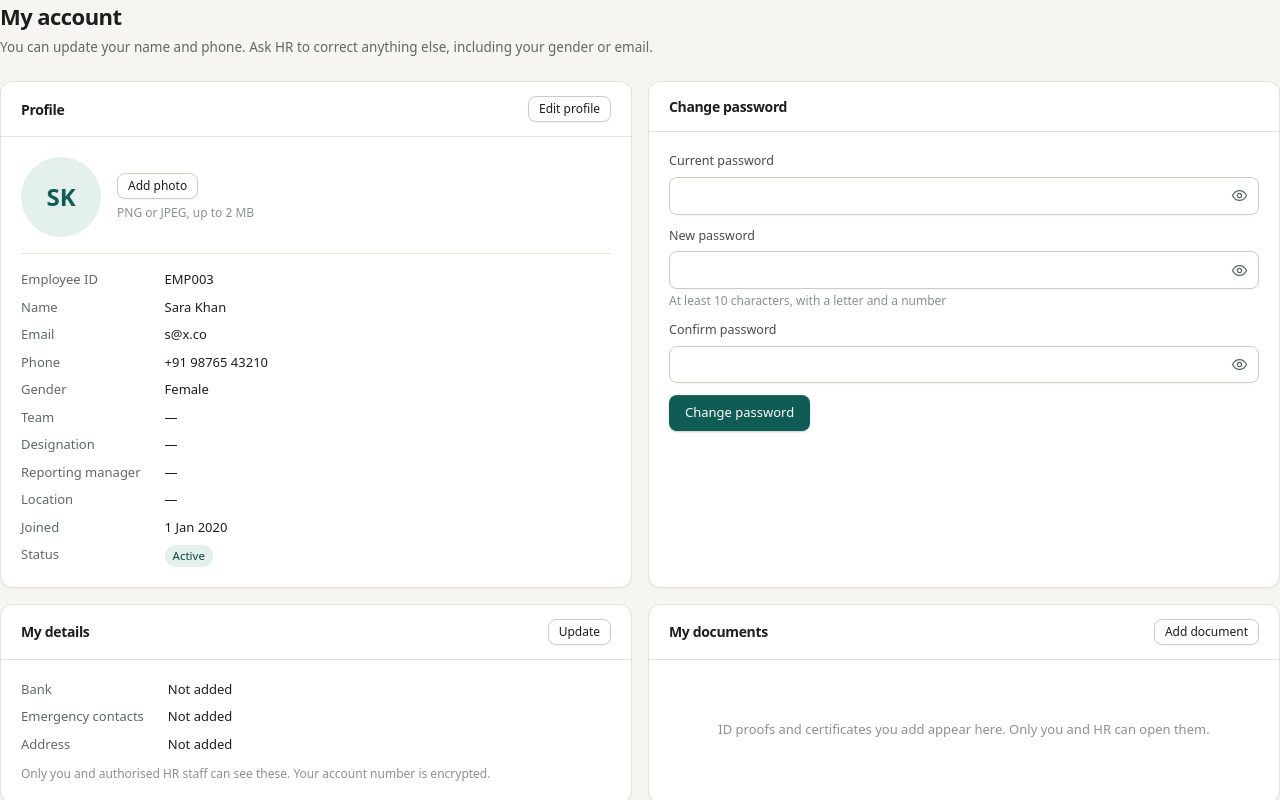
Test: my account › updates only the name and phone, then shows the saved details
Click the button "Edit profile" at (570, 109), box [528,96,611,122]
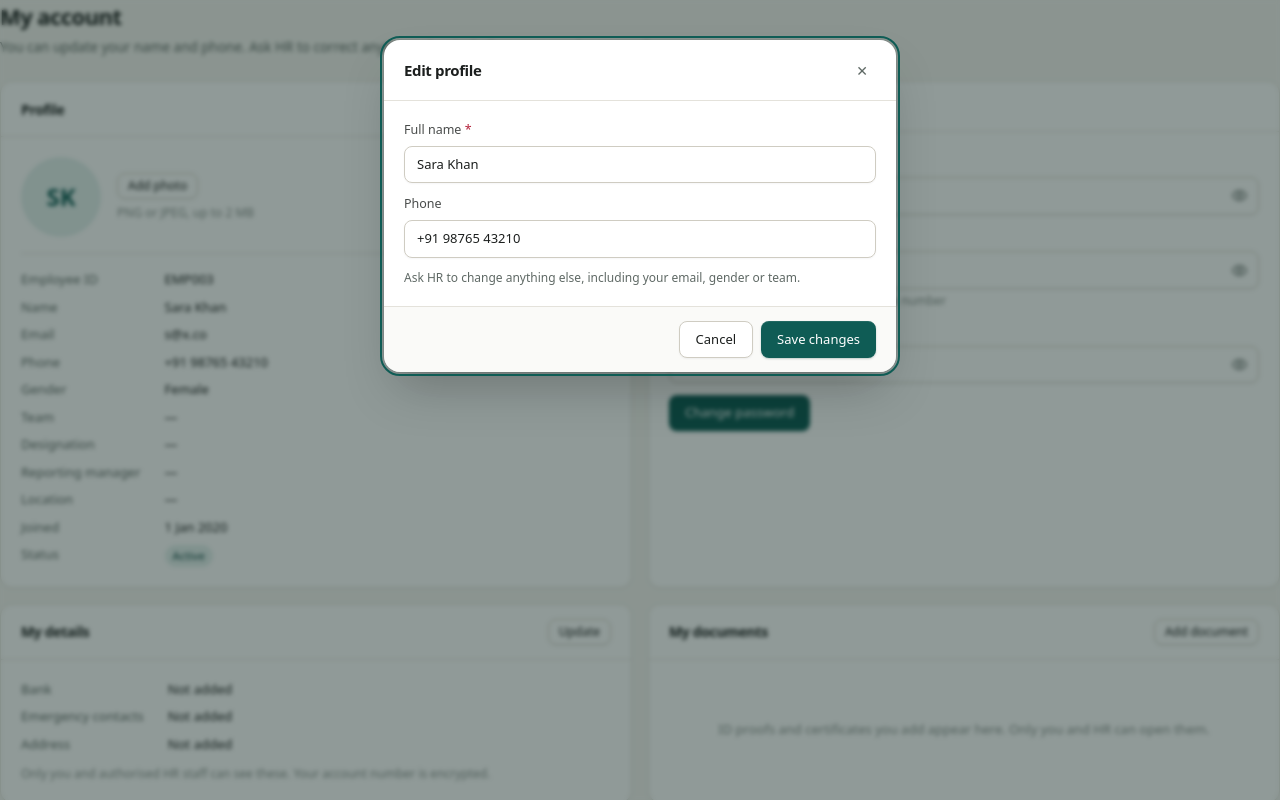
Replace the text in the field labelled "Full name *" with "Sara K" at (640, 165), box [404,146,876,183]
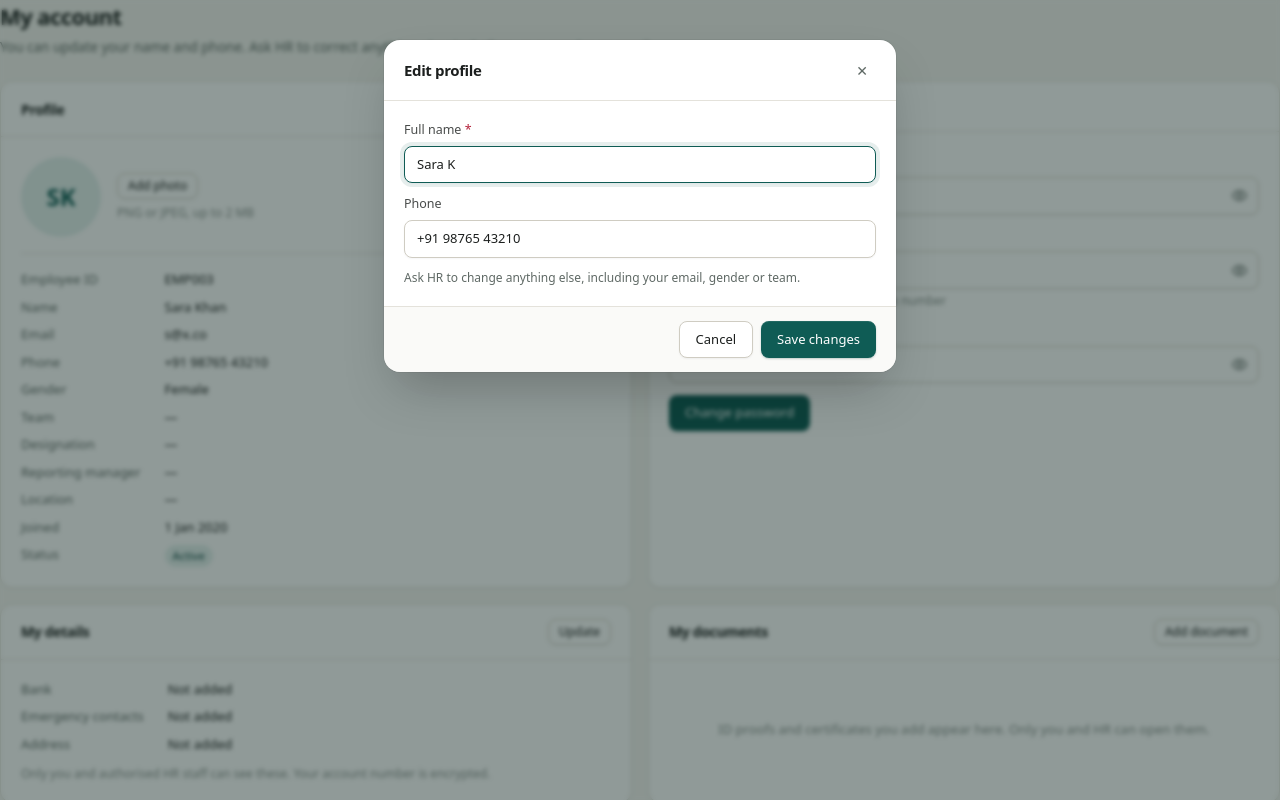
Click the button "Save changes" at (819, 339), box [761,320,876,358]
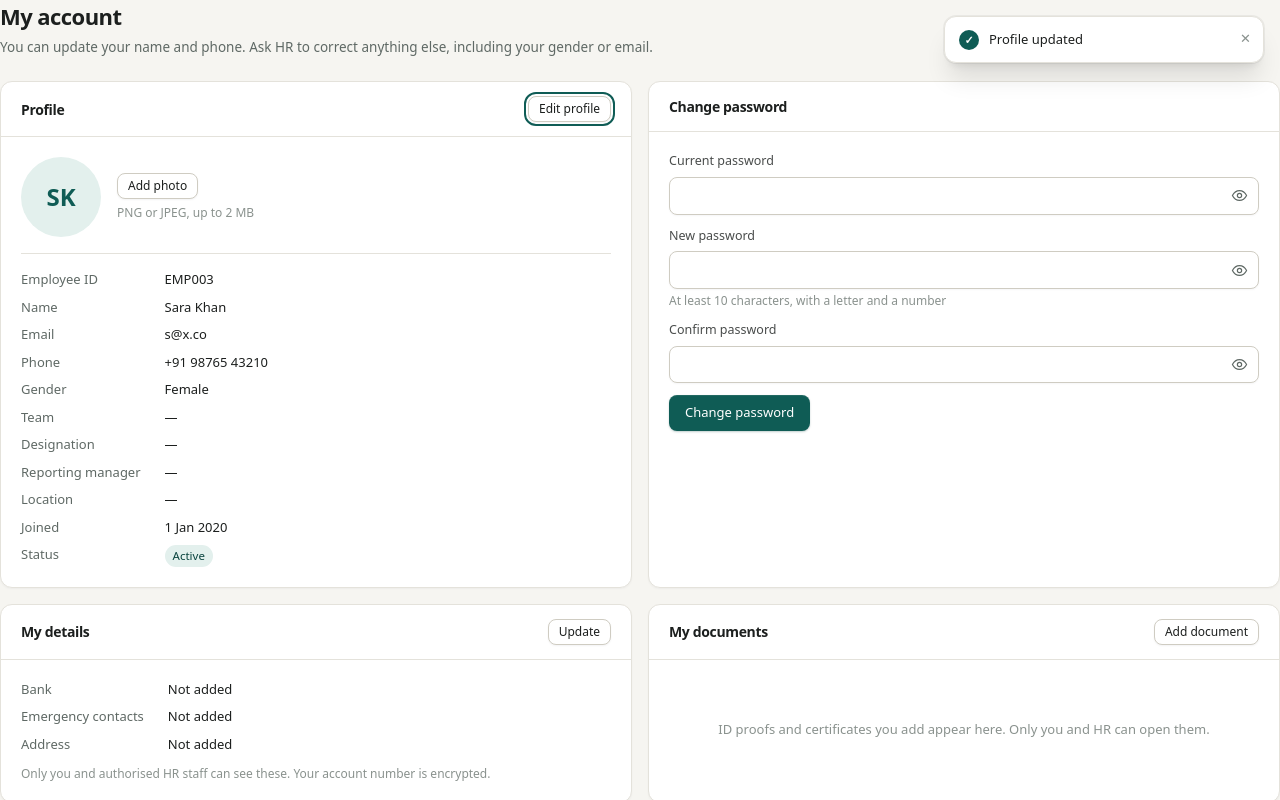
Check: the button "Save changes" is gone
